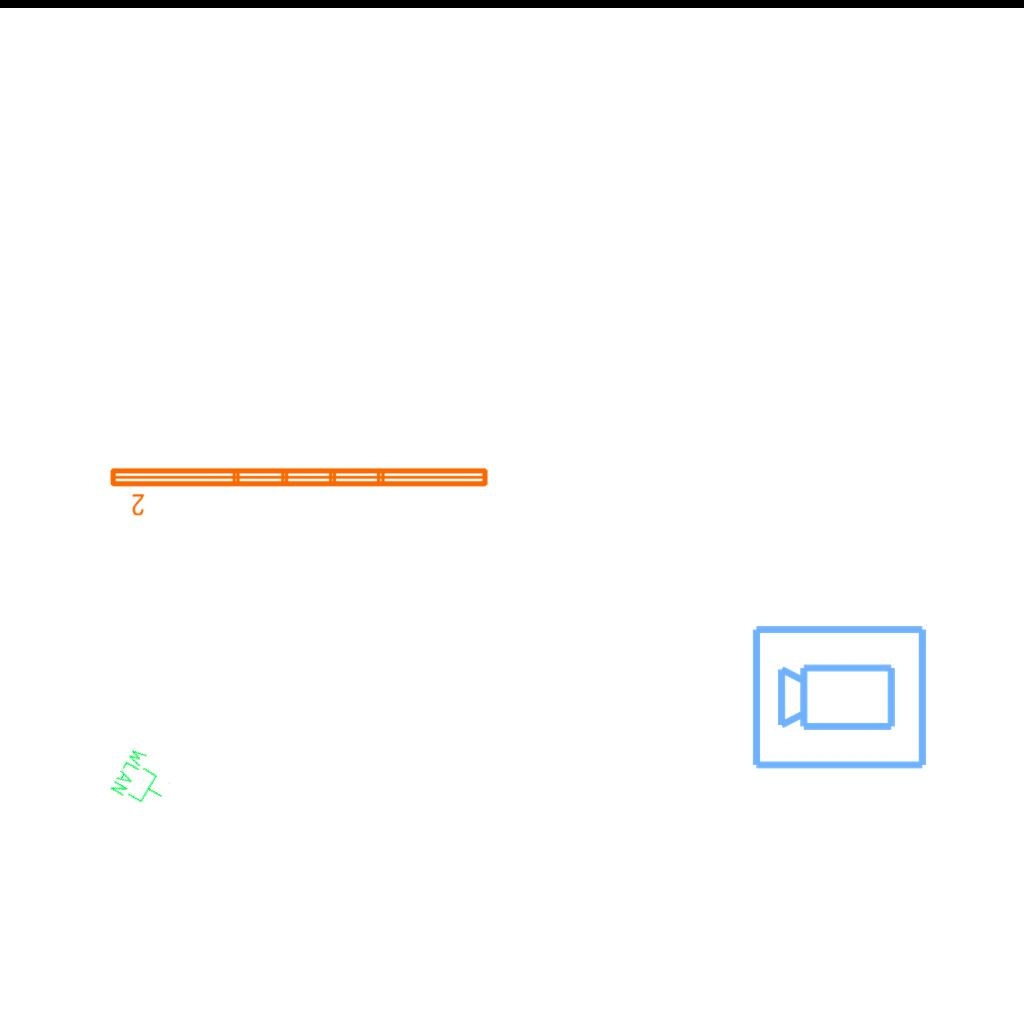Ambulanz_Pendelleuchte_LED: (106, 462, 493, 518)
KFO_Kamera_mit_Festobjektiv: (749, 619, 931, 773)
WLAN: (107, 744, 179, 816)
